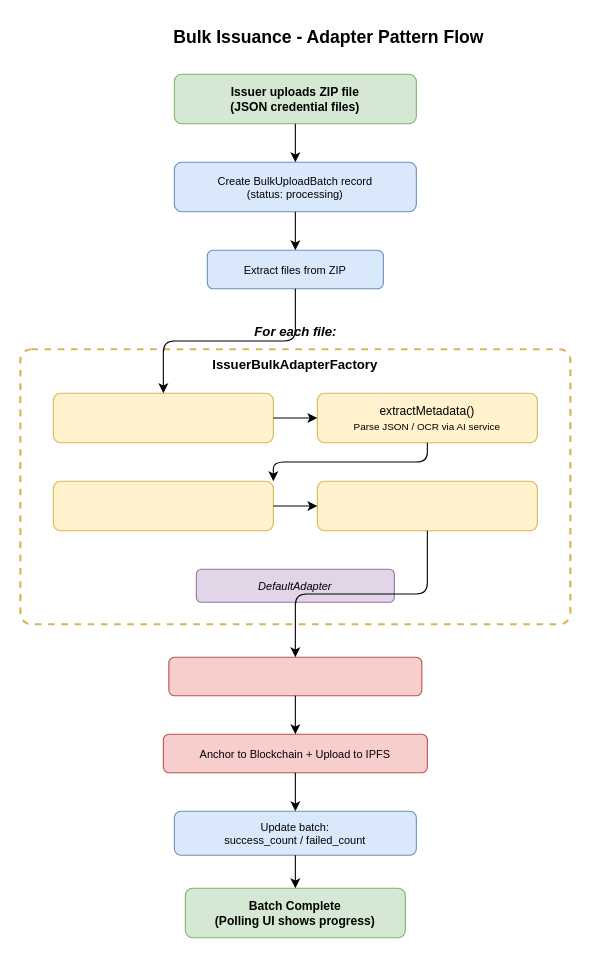
This 590x957 diagram has some shape labels left out. The shapes that lost their labels are listed below. From the top down, each one's box as (x1, y1, x2, y2) in pixels, then its label:
(52, 392, 273, 443): identify() Detect file type (JSON/PDF/Image)
(52, 480, 273, 531): verify() Validate credential data
(316, 480, 537, 531): normalize() Map to standard Credential schema
(168, 656, 422, 696): Build Canonical JSON + data_hash
